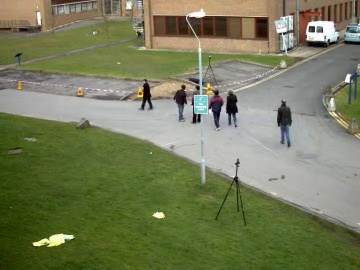person: (174, 83, 191, 120), (139, 79, 155, 111), (140, 79, 155, 112)
